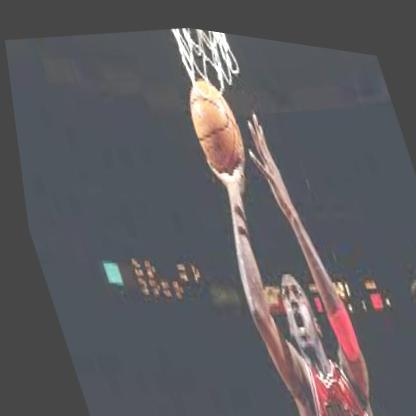basketball: (177, 67, 251, 173)
